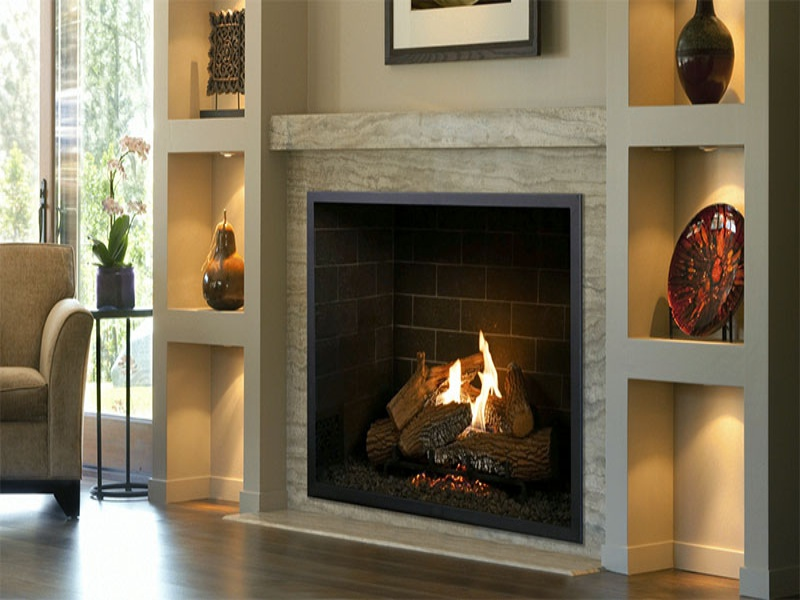fire: (434, 326, 511, 423)
